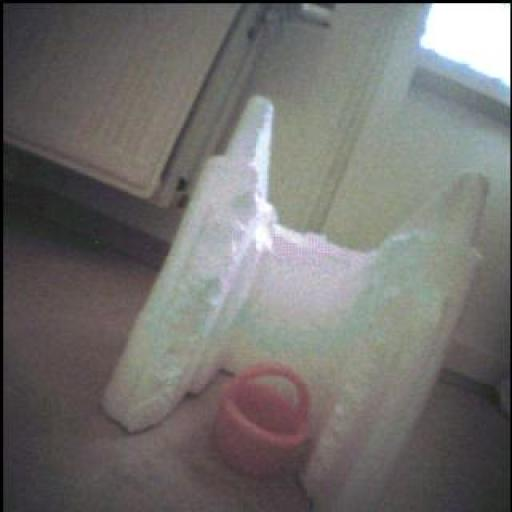Basket: (215, 364, 310, 478)
